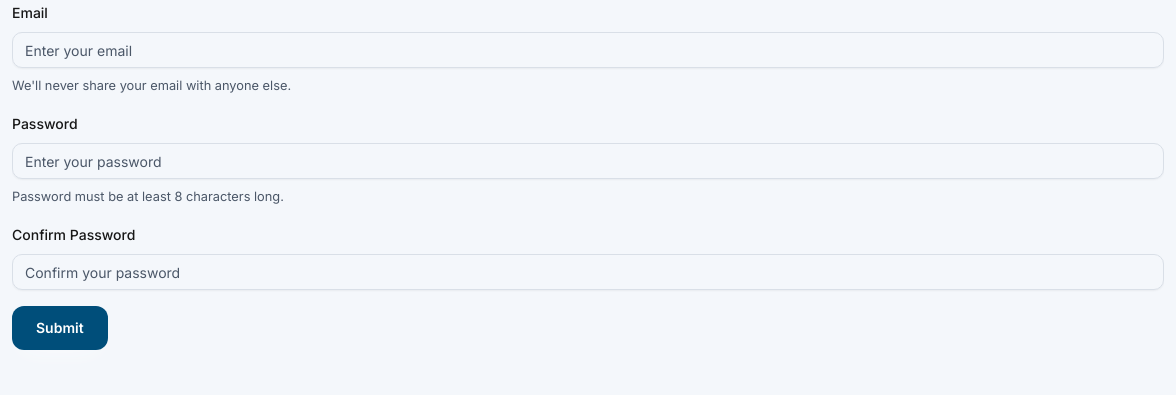
Test case: Form Components › Form Validation › shows password confirmation error
Type "test@example.com" into the field labelled "Email" at [588, 50], box left=12, top=32, right=1164, bottom=68
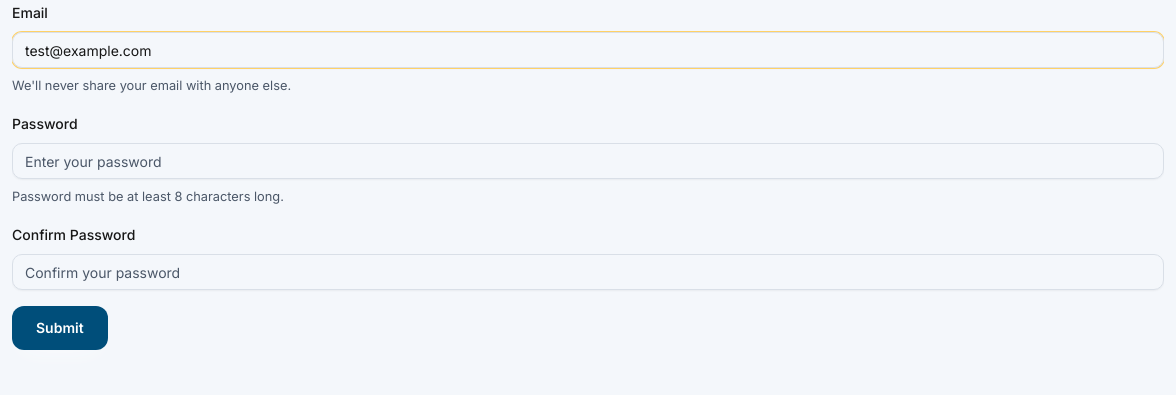
Type "password123" into the password field labelled "Password" at [588, 161], box left=12, top=143, right=1164, bottom=179
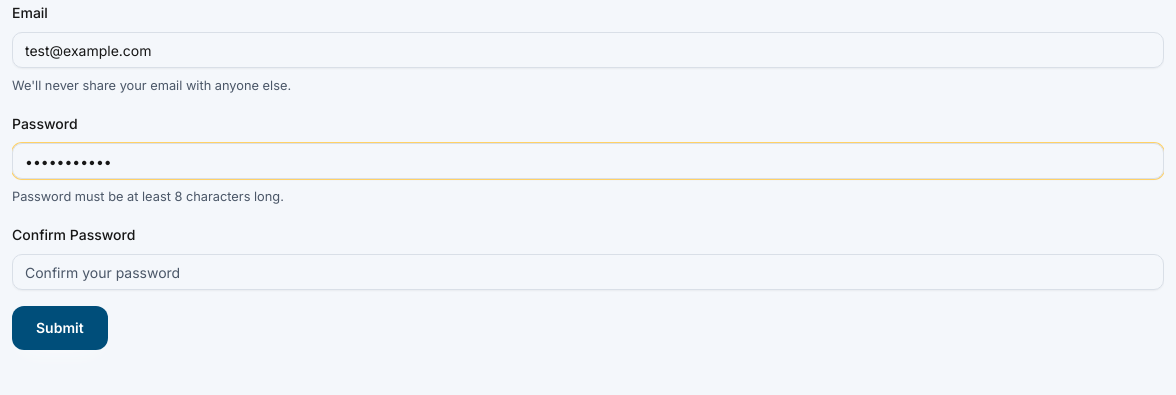
Type "different123" into the password field labelled "Confirm Password" at [588, 272], box left=12, top=254, right=1164, bottom=290
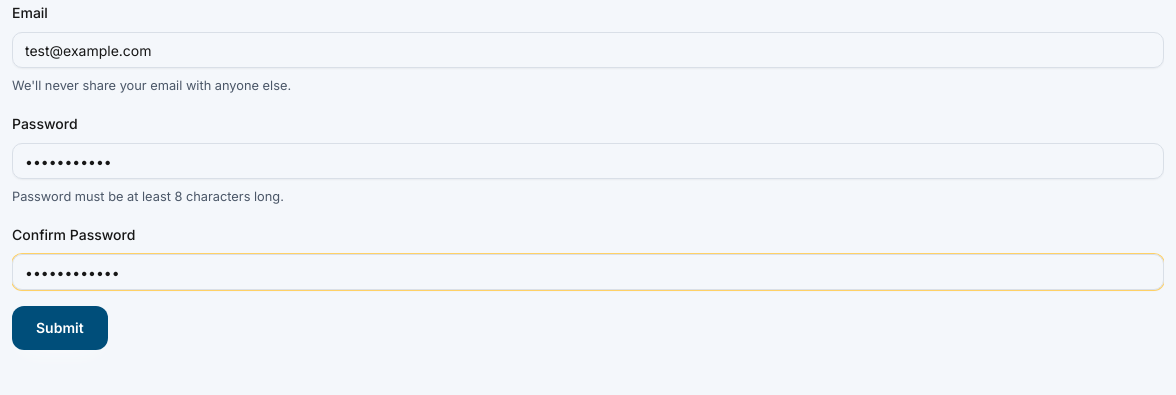
Click the button "Submit" at [60, 328], box left=12, top=306, right=108, bottom=350
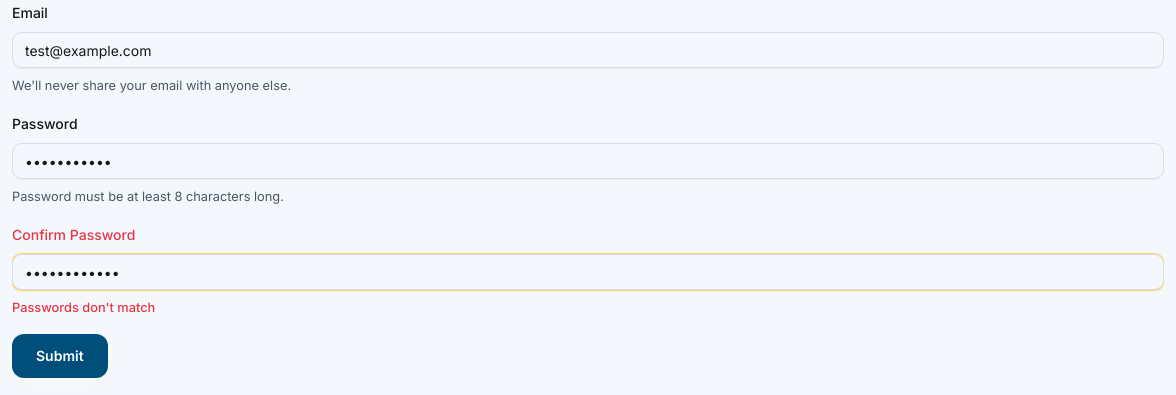
Now the text "Passwords don't match" is shown, box left=12, top=300, right=155, bottom=315
